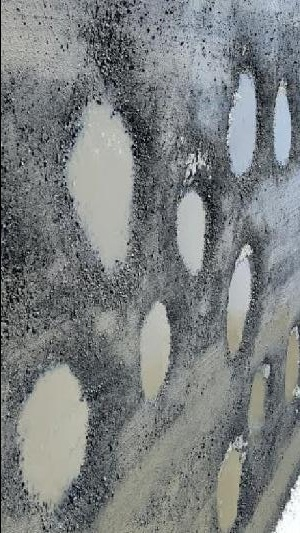pothole: (58, 83, 149, 288), (14, 350, 100, 513), (223, 61, 268, 189), (224, 235, 267, 362), (137, 294, 178, 402), (175, 183, 217, 277), (213, 437, 248, 532), (273, 72, 297, 169), (246, 365, 272, 445), (282, 318, 300, 407)
